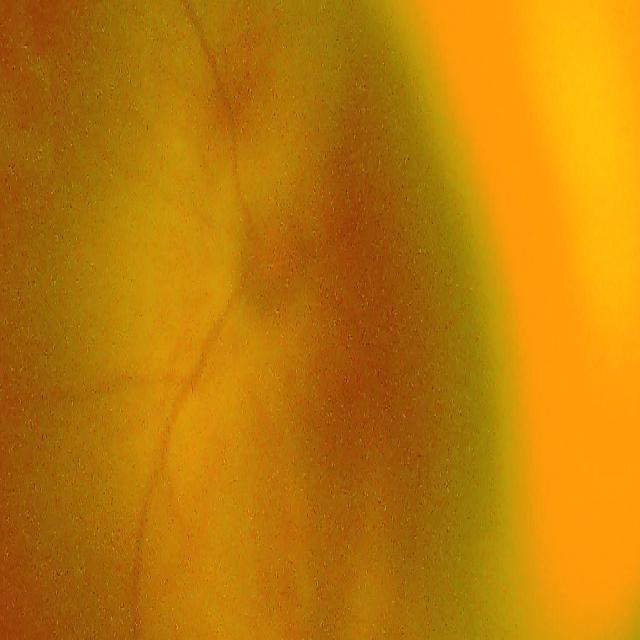optic-nerve: (218, 174, 332, 361)
